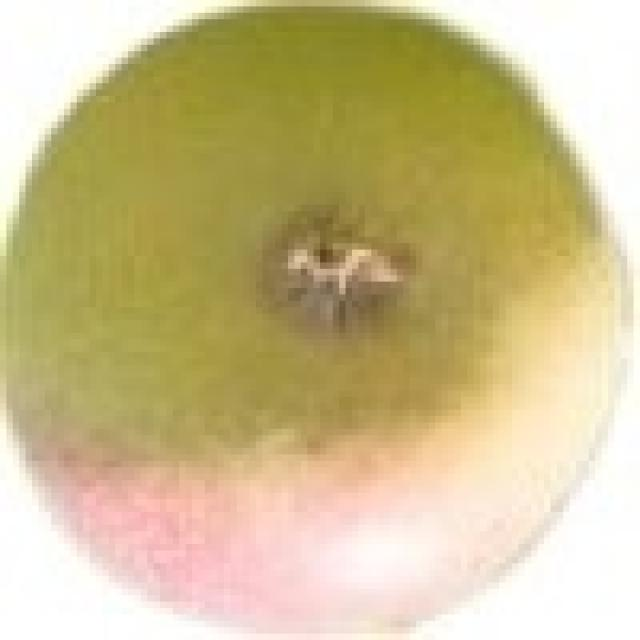50-_ripeness: (3, 0, 637, 629)
